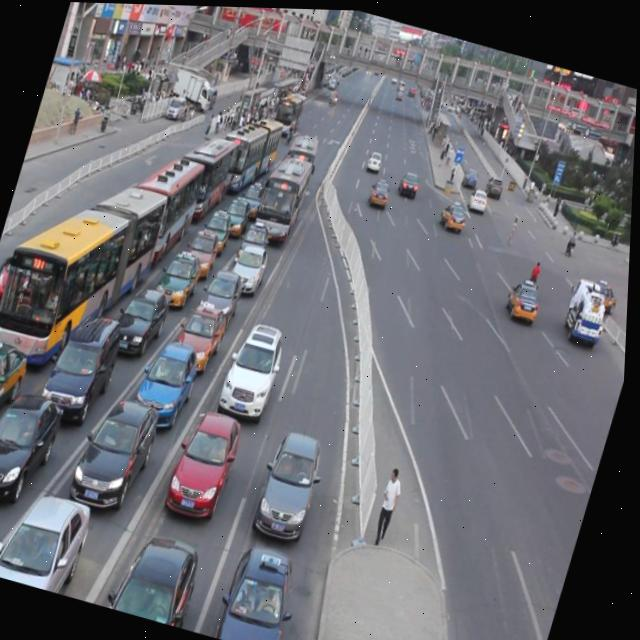bus: (557, 269, 616, 344)
car: (0, 473, 102, 596), (74, 380, 169, 505), (110, 519, 211, 627), (43, 296, 132, 415), (215, 532, 312, 640), (256, 417, 337, 531), (170, 398, 251, 507), (0, 376, 72, 497), (220, 308, 294, 411), (137, 327, 207, 417), (114, 269, 177, 350), (173, 288, 234, 364), (0, 326, 35, 433), (198, 257, 250, 321), (158, 238, 209, 301), (0, 250, 48, 308), (233, 231, 275, 285), (184, 216, 226, 268), (503, 270, 546, 317), (239, 207, 275, 256), (201, 197, 238, 244), (238, 167, 273, 209), (223, 183, 256, 226), (591, 272, 623, 310), (438, 195, 471, 230), (369, 174, 394, 204), (398, 166, 422, 194), (467, 182, 490, 209), (484, 169, 505, 195), (365, 146, 385, 170), (462, 161, 480, 184)
van: (0, 148, 175, 377), (117, 134, 211, 261), (216, 94, 288, 186), (252, 144, 316, 243), (177, 118, 241, 213), (280, 128, 324, 189)
